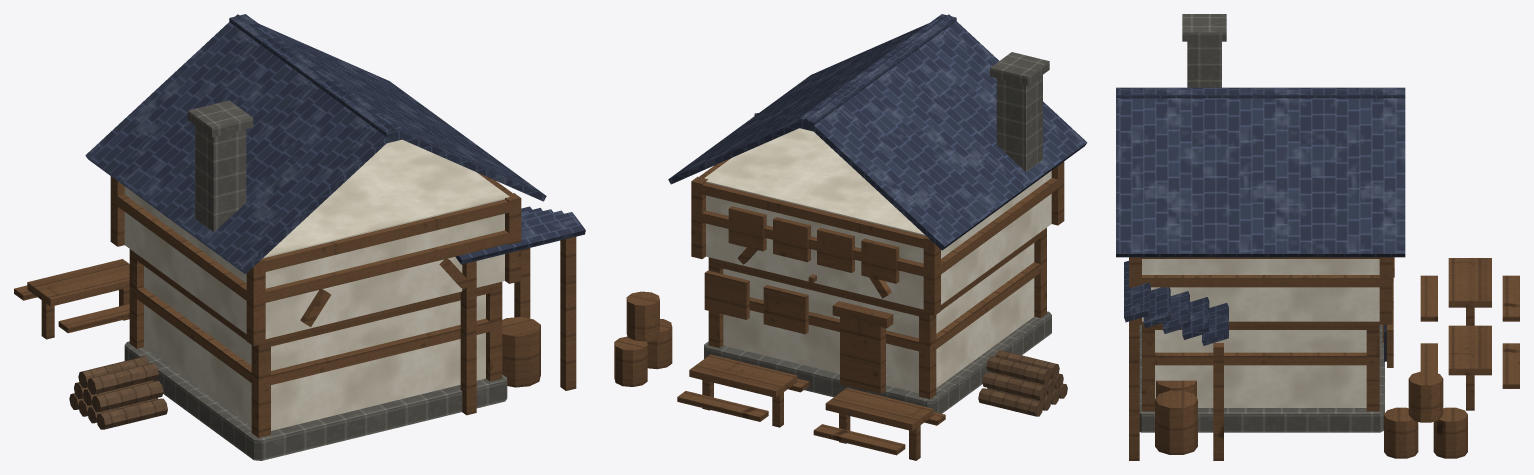
Rendered from tavern.gltf.
The picture shows the model from 3 angles, left to right: view 1: azimuth 30°, elevation 25°; view 2: azimuth 150°, elevation 25°; view 3: azimuth 270°, elevation 25°; orthographic projection. The views are drawn at different scales.
Visible parts, largest first — view 1: Tavern; view 2: Tavern; view 3: Tavern.
Part boxes in pixels (<box>): Tavern: <box>14,14,585,460</box>; Tavern: <box>614,14,1087,460</box>; Tavern: <box>1116,14,1519,460</box>.
Bounding box in the file's own units: 4 × 3.02 × 3.74.
Materials: 9 (8 with a texture image).
